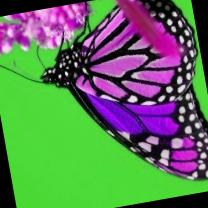butterfly: (42, 0, 208, 179)
